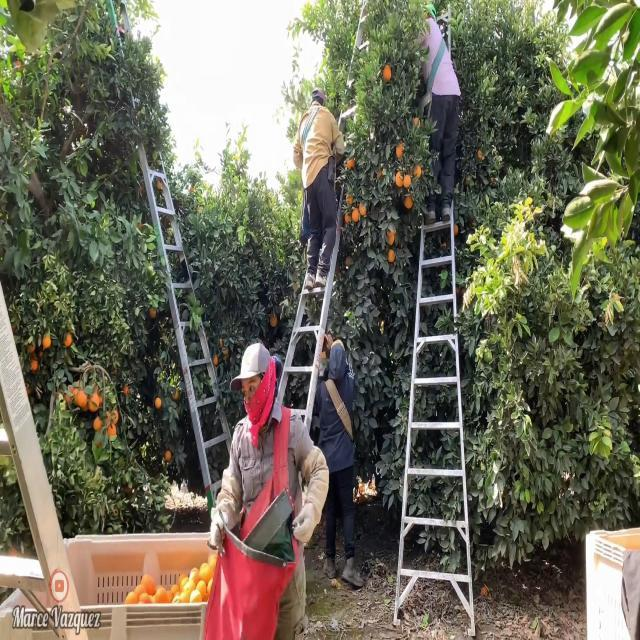Jeruk Sudah Matang: (381, 64, 392, 84), (395, 139, 405, 160), (384, 227, 395, 246), (403, 194, 414, 212), (412, 163, 422, 180), (358, 200, 368, 217), (350, 207, 360, 224), (154, 394, 163, 412), (394, 168, 402, 187), (162, 448, 172, 463), (212, 354, 221, 370), (347, 155, 355, 172), (388, 248, 396, 264), (403, 174, 412, 188), (268, 315, 278, 327), (149, 306, 157, 320), (344, 210, 351, 226), (345, 192, 353, 204), (217, 338, 225, 349), (453, 223, 459, 236)
